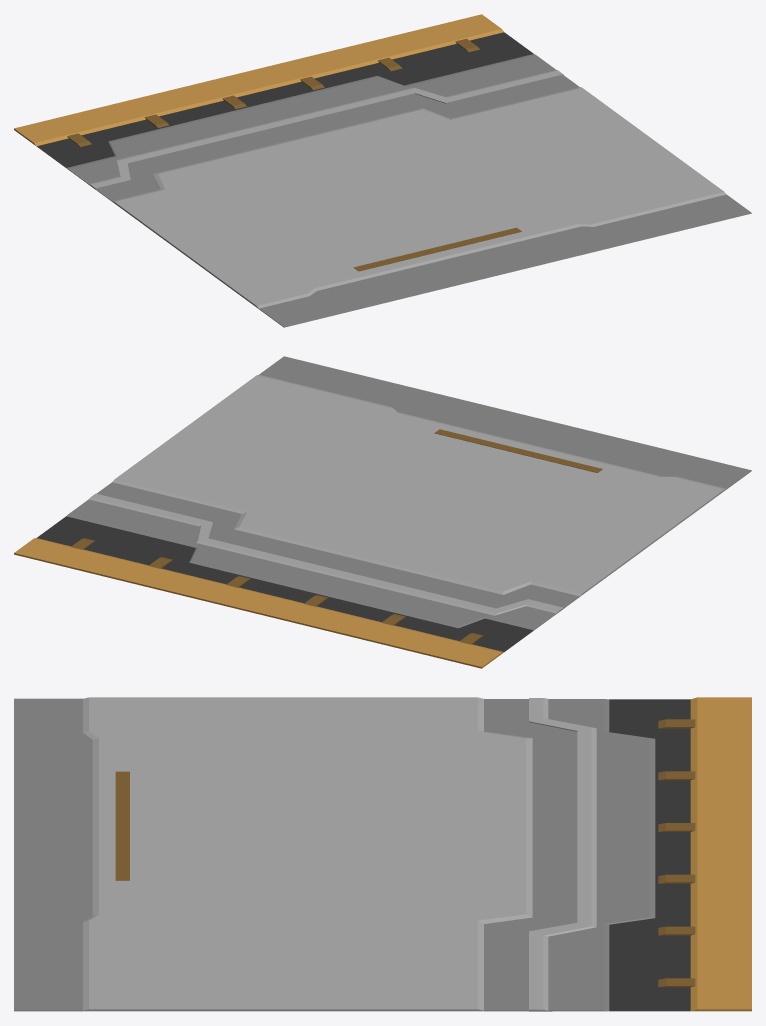
File: FloorSide.fbx
The picture shows the model from 3 angles, top to bottom: view 1: azimuth 30°, elevation 25°; view 2: azimuth 150°, elevation 25°; view 3: azimuth 270°, elevation 25°; orthographic projection. The views are drawn at different scales.
Visible parts, largest first — view 1: FloorTile_Side; view 2: FloorTile_Side; view 3: FloorTile_Side.
Part boxes in pixels (x1=…): FloorTile_Side: x1=14, y1=14, x2=751, y2=327; FloorTile_Side: x1=14, y1=356, x2=751, y2=668; FloorTile_Side: x1=14, y1=697, x2=751, y2=1011.
Bounding box in the file's own units: 2 × 0.0111 × 2.
